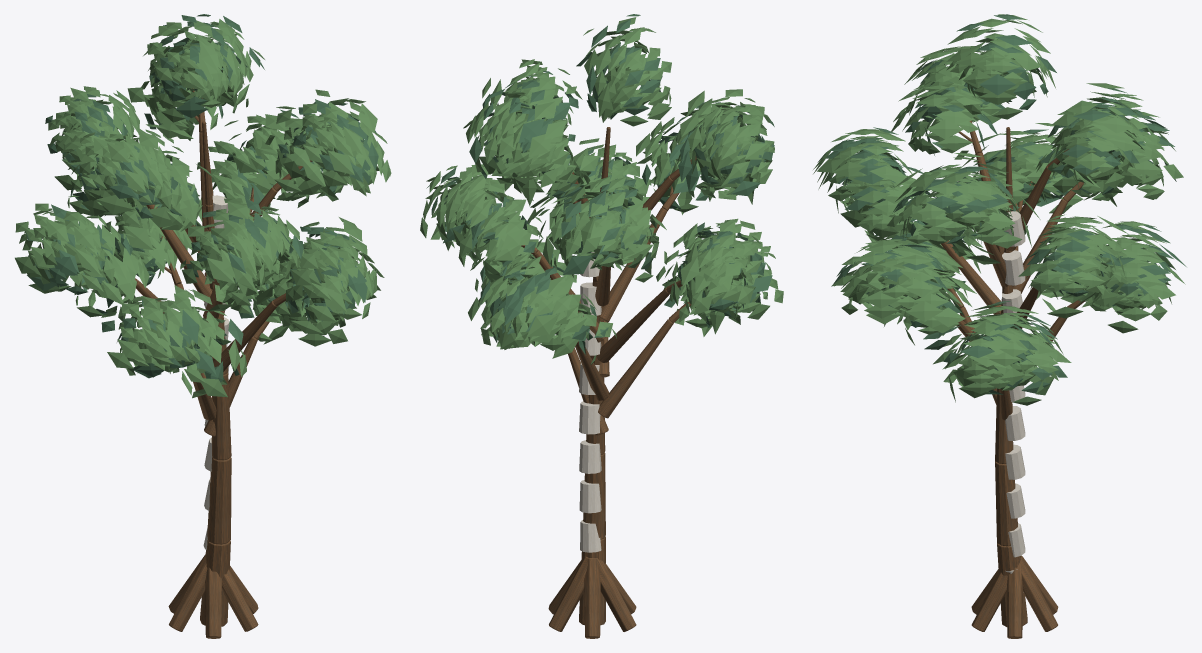
Rendered from birch.glb.
The picture shows the model from 3 angles, left to right: view 1: azimuth 30°, elevation 25°; view 2: azimuth 150°, elevation 25°; view 3: azimuth 270°, elevation 25°; orthographic projection. The views are drawn at different scales.
Parts seen in each view (by area): view 1: Airy supported leaf sprays.001, Airy supported leaf sprays, Tapered curved trunk, Asymmetric crown tuft.001, Primary angled limbs, Grounded buttress roots, Asymmetric crown tuft, Birch pale bark, Rising outer limbs; view 2: Airy supported leaf sprays.001, Airy supported leaf sprays, Primary angled limbs, Asymmetric crown tuft.001, Grounded buttress roots, Birch pale bark, Tapered curved trunk, Asymmetric crown tuft; view 3: Airy supported leaf sprays.001, Airy supported leaf sprays, Asymmetric crown tuft.001, Primary angled limbs, Grounded buttress roots, Birch pale bark, Tapered curved trunk, Asymmetric crown tuft, Rising outer limbs.
Boxes of the visible parts, x1,y1,x2,y2 form: Airy supported leaf sprays.001: (15,19,391,398); Airy supported leaf sprays: (25,14,378,382); Tapered curved trunk: (200,121,231,626); Asymmetric crown tuft.001: (147,20,247,122); Primary angled limbs: (136,132,277,436); Grounded buttress roots: (168,554,258,638); Asymmetric crown tuft: (149,15,247,118); Birch pale bark: (203,195,229,549); Rising outer limbs: (135,98,309,339); Airy supported leaf sprays.001: (420,59,783,364); Airy supported leaf sprays: (426,71,774,354); Primary angled limbs: (533,172,673,435); Asymmetric crown tuft.001: (583,17,671,126); Grounded buttress roots: (548,556,636,638); Birch pale bark: (579,252,601,561); Tapered curved trunk: (579,127,610,625); Asymmetric crown tuft: (576,14,662,119); Airy supported leaf sprays.001: (813,46,1185,405); Airy supported leaf sprays: (817,59,1186,394); Asymmetric crown tuft.001: (946,14,1055,119); Primary angled limbs: (941,152,1067,420); Grounded buttress roots: (971,555,1058,638); Birch pale bark: (1002,211,1025,592); Tapered curved trunk: (995,127,1027,626); Asymmetric crown tuft: (956,14,1056,109); Rising outer limbs: (947,120,1084,308).
Bounding box in the file's own units: 2.54 × 4.59 × 2.63.
Materials: 5 (3 with a texture image).
